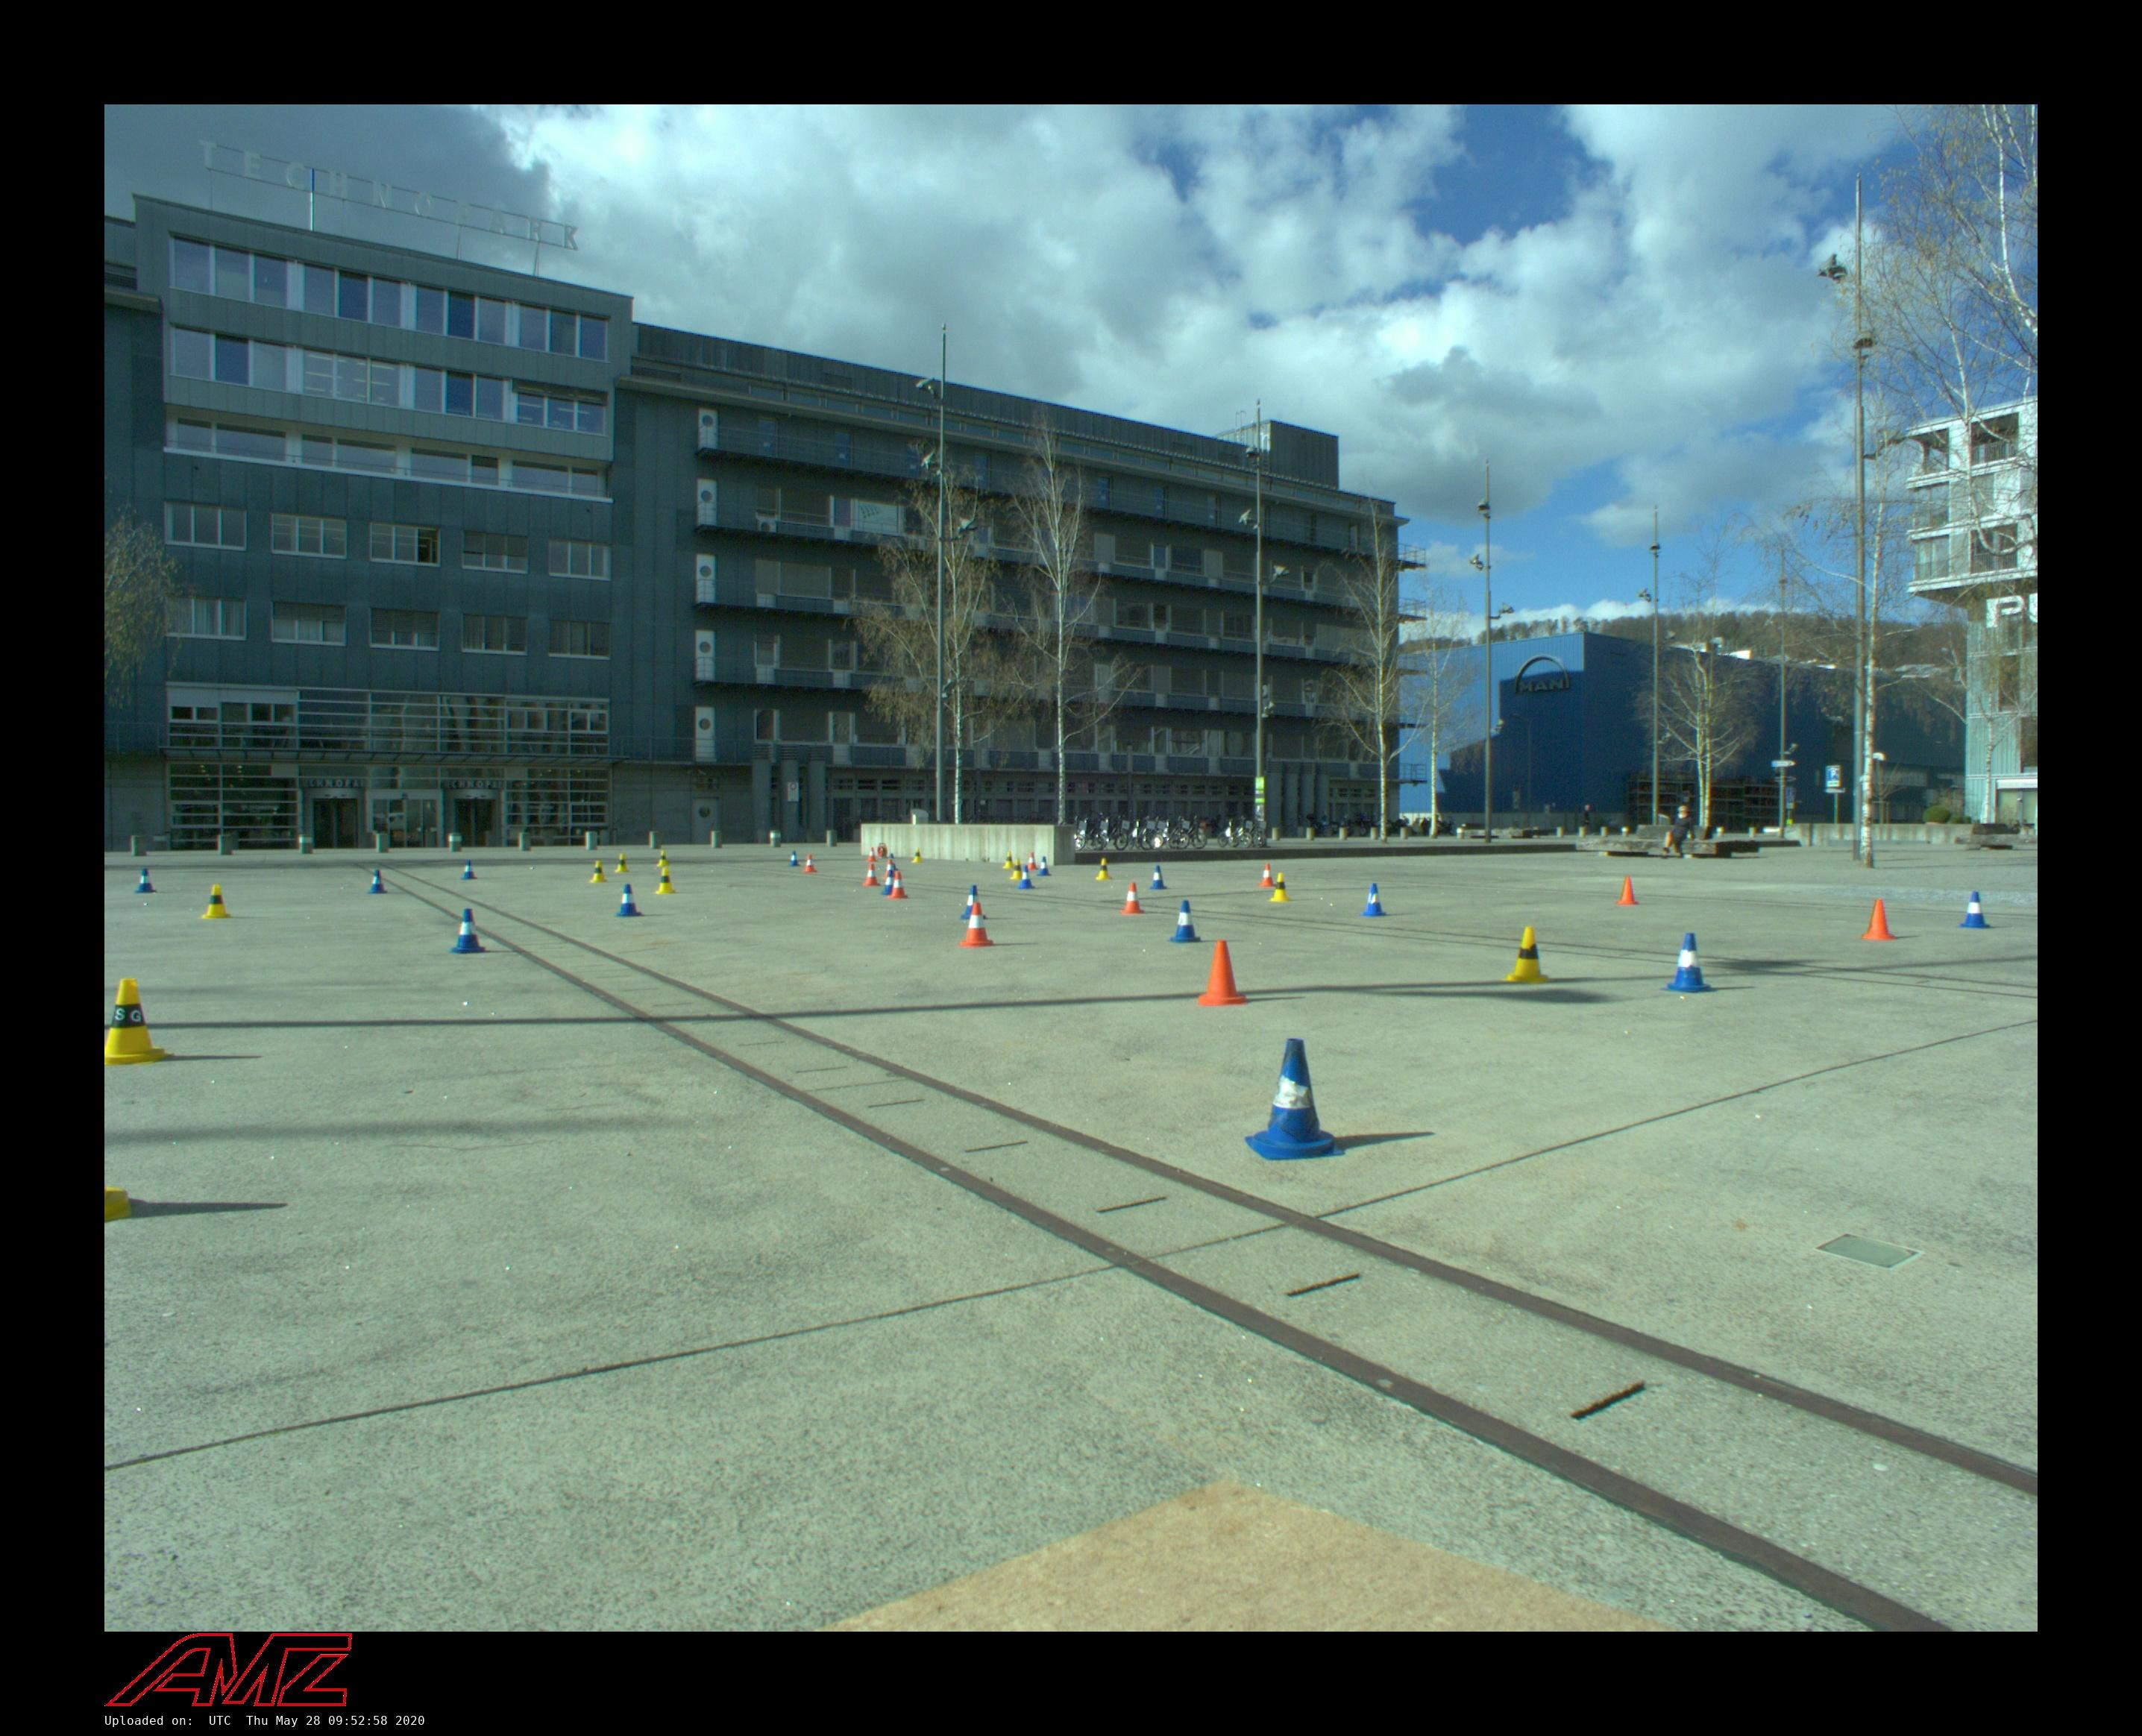blue_cone: (1244, 1038, 1345, 1160), (1660, 932, 1717, 992), (450, 907, 489, 953), (1166, 900, 1203, 944), (1958, 891, 1991, 928), (615, 884, 643, 918), (1359, 882, 1387, 916), (960, 884, 987, 919), (135, 868, 158, 893), (369, 870, 388, 895), (881, 870, 898, 896), (1017, 864, 1035, 889), (1150, 864, 1168, 889), (462, 859, 477, 880), (1036, 857, 1051, 877), (886, 854, 898, 872), (788, 850, 801, 866)
orange_cone: (1198, 939, 1246, 1006), (958, 902, 994, 948), (1860, 900, 1898, 941), (1118, 882, 1145, 914), (1616, 877, 1639, 905), (888, 872, 907, 898), (863, 863, 882, 887), (1258, 863, 1276, 887), (803, 854, 817, 873), (882, 859, 896, 879), (1024, 852, 1038, 870), (866, 847, 877, 861)
yellow_cone: (105, 978, 174, 1066), (1502, 925, 1552, 983), (200, 884, 232, 919), (1269, 872, 1292, 902), (656, 868, 677, 895), (590, 859, 608, 882), (1095, 857, 1111, 880), (613, 854, 631, 873), (1010, 859, 1026, 880), (656, 849, 670, 868), (1003, 850, 1015, 868), (911, 849, 923, 863)
